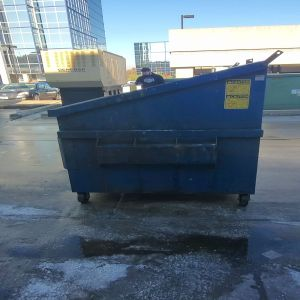Dumpster: (48, 86, 265, 208)
Person: (135, 66, 164, 84)
